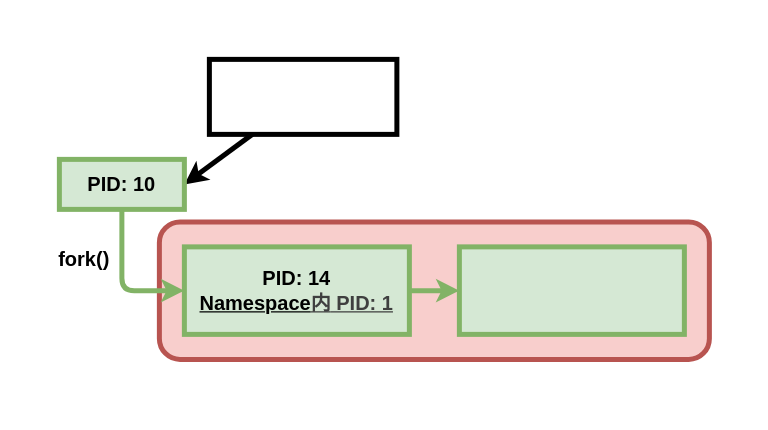
Image size: 768x430. Some labels were removed from this diagram. Each missing label, with the centre of its shape:
"PID Namespace unshare" goes at point 302,96.
"PID: 17 Namespace内 PID: 2" goes at point 571,290.
